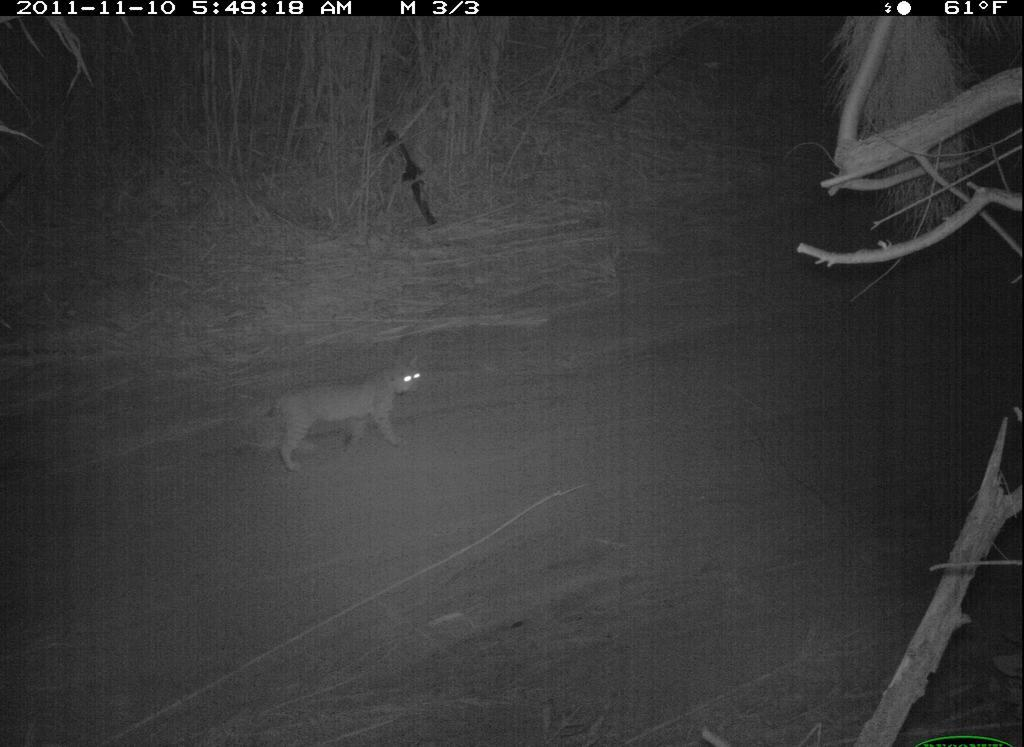bobcat: (248, 350, 443, 473)
